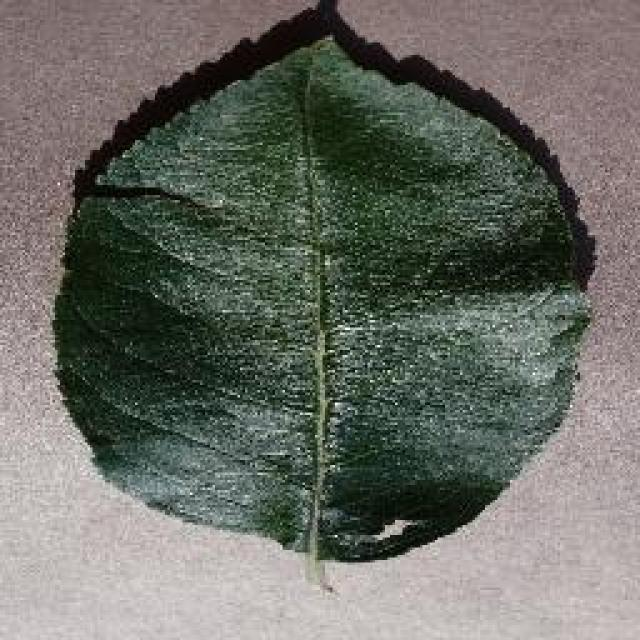apple healthy: (47, 2, 595, 570)
